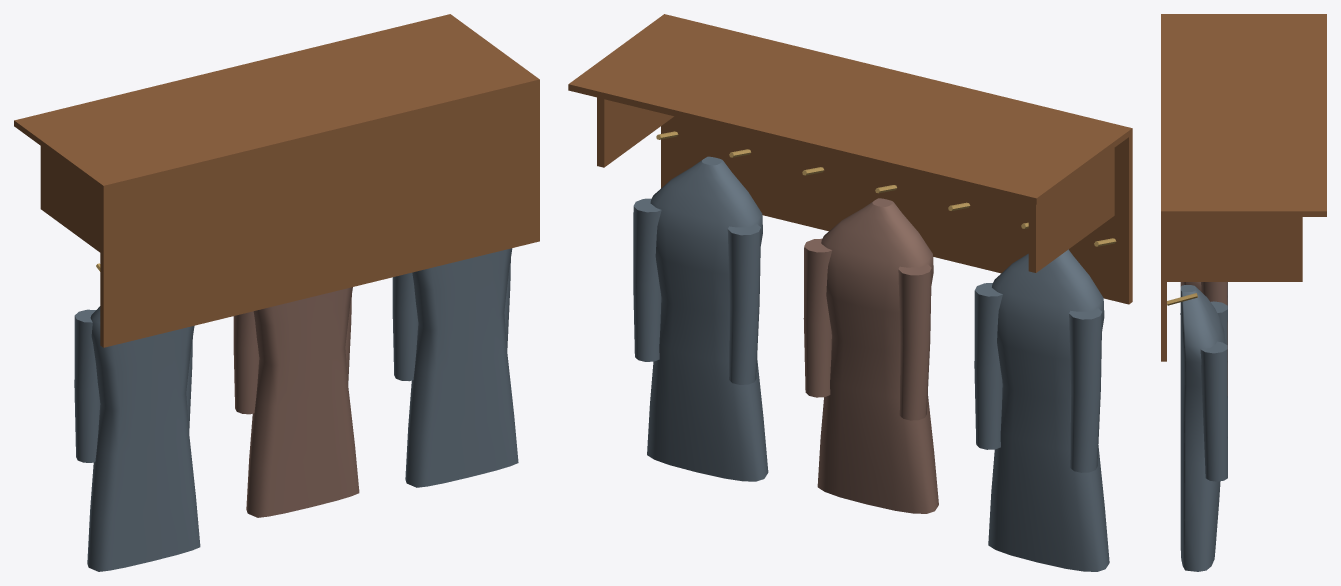
The model's file is parametric-wall-coat-rack-1st-1550x0550x1950.glb.
3 renders of one model, left to right at view 1: azimuth 30°, elevation 25°; view 2: azimuth 150°, elevation 25°; view 3: azimuth 270°, elevation 25°, orthographic. The views are drawn at different scales.
Visible parts, largest first — view 1: backboard, hat-shelf, coat:0, coat:2, coat:1, bracket:-1, coat-sleeve:0:-1, coat-sleeve:2:-1, coat-sleeve:1:-1; view 2: hat-shelf, coat:2, backboard, coat:0, coat:1, bracket:-1, coat-sleeve:0:-1, coat-sleeve:2:-1, coat-sleeve:1:-1, coat-sleeve:0:1, coat-sleeve:2:1, coat-sleeve:1:1 (+1 smaller); view 3: hat-shelf, bracket:1, coat:2, coat-sleeve:2:1, backboard, coat-sleeve:1:1, coat-sleeve:2:-1.
Boxes of the visible parts, bbox=[...] form: backboard: bbox=[100, 85, 539, 347]; hat-shelf: bbox=[14, 14, 539, 191]; coat:0: bbox=[87, 306, 200, 571]; coat:2: bbox=[405, 248, 518, 487]; coat:1: bbox=[246, 287, 359, 517]; bracket:-1: bbox=[40, 146, 100, 252]; coat-sleeve:0:-1: bbox=[74, 309, 100, 462]; coat-sleeve:2:-1: bbox=[392, 272, 418, 381]; coat-sleeve:1:-1: bbox=[233, 311, 259, 414]; hat-shelf: bbox=[568, 14, 1132, 204]; coat:2: bbox=[647, 156, 768, 481]; backboard: bbox=[661, 116, 1132, 304]; coat:0: bbox=[988, 249, 1109, 571]; coat:1: bbox=[817, 198, 938, 513]; bracket:-1: bbox=[1028, 148, 1114, 272]; coat-sleeve:0:-1: bbox=[1069, 308, 1102, 472]; coat-sleeve:2:-1: bbox=[727, 224, 760, 384]; coat-sleeve:1:-1: bbox=[898, 264, 931, 420]; coat-sleeve:0:1: bbox=[974, 283, 1002, 449]; coat-sleeve:2:1: bbox=[633, 198, 661, 361]; coat-sleeve:1:1: bbox=[803, 238, 832, 397]; hat-shelf: bbox=[1161, 14, 1326, 216]; bracket:1: bbox=[1167, 217, 1302, 281]; coat:2: bbox=[1180, 285, 1225, 571]; coat-sleeve:2:1: bbox=[1200, 341, 1227, 481]; backboard: bbox=[1161, 217, 1166, 361]; coat-sleeve:1:1: bbox=[1201, 282, 1227, 395]; coat-sleeve:2:-1: bbox=[1210, 301, 1227, 436].
Bounding box in the file's own units: 1.55 × 1.35 × 0.55.
